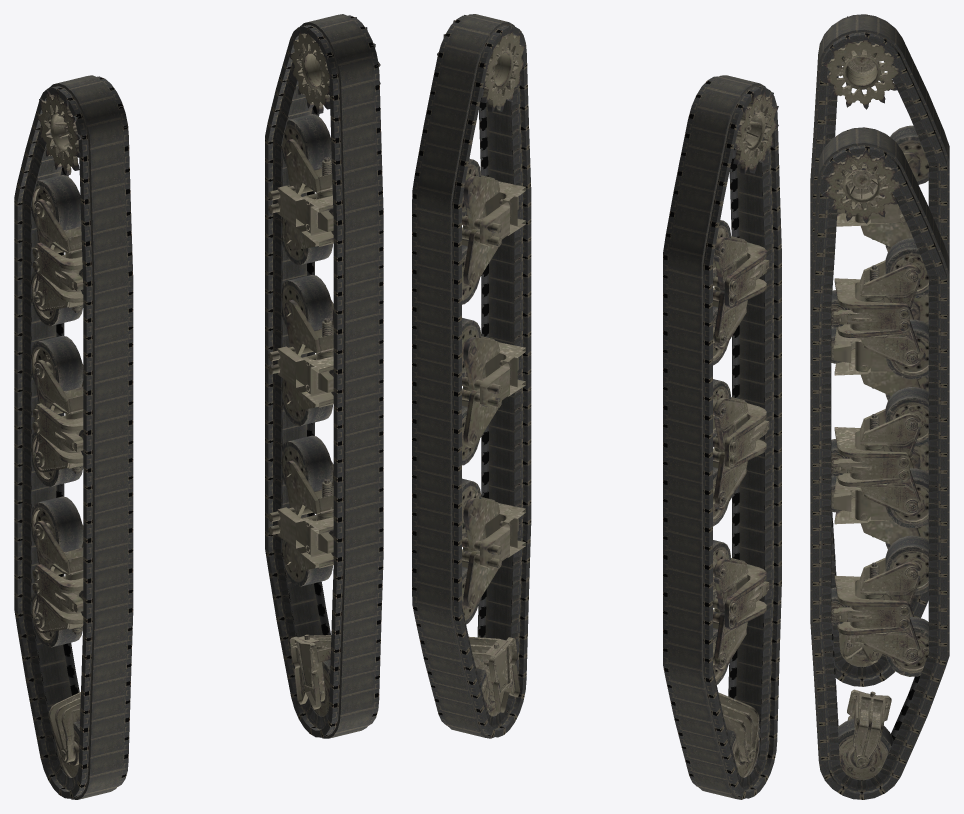
File: Chassis.glb
The picture shows the model from 3 angles, left to right: view 1: azimuth 30°, elevation 25°; view 2: azimuth 150°, elevation 25°; view 3: azimuth 270°, elevation 25°; orthographic projection. The views are drawn at different scales.
Parts seen in each view (by area): view 1: set_0_group_0, set_1_group_0, set_3_group_0, set_2_group_0; view 2: set_0_group_0, set_1_group_0, set_3_group_0, set_2_group_0; view 3: set_3_group_0, set_1_group_0, set_2_group_0, set_0_group_0.
Part boxes in pixels (bbox=[...]): set_0_group_0: bbox=[14, 75, 133, 799]; set_1_group_0: bbox=[265, 14, 383, 738]; set_3_group_0: bbox=[268, 17, 380, 716]; set_2_group_0: bbox=[31, 88, 128, 777]; set_0_group_0: bbox=[663, 75, 781, 799]; set_1_group_0: bbox=[412, 14, 531, 738]; set_3_group_0: bbox=[437, 15, 526, 716]; set_2_group_0: bbox=[713, 76, 778, 777]; set_3_group_0: bbox=[821, 130, 928, 779]; set_1_group_0: bbox=[810, 127, 949, 799]; set_2_group_0: bbox=[822, 14, 928, 666]; set_0_group_0: bbox=[810, 14, 949, 686].
Size of the model in its own units: 2.77 by 6.14 by 1.18.
Materials: 4 (4 with a texture image).
